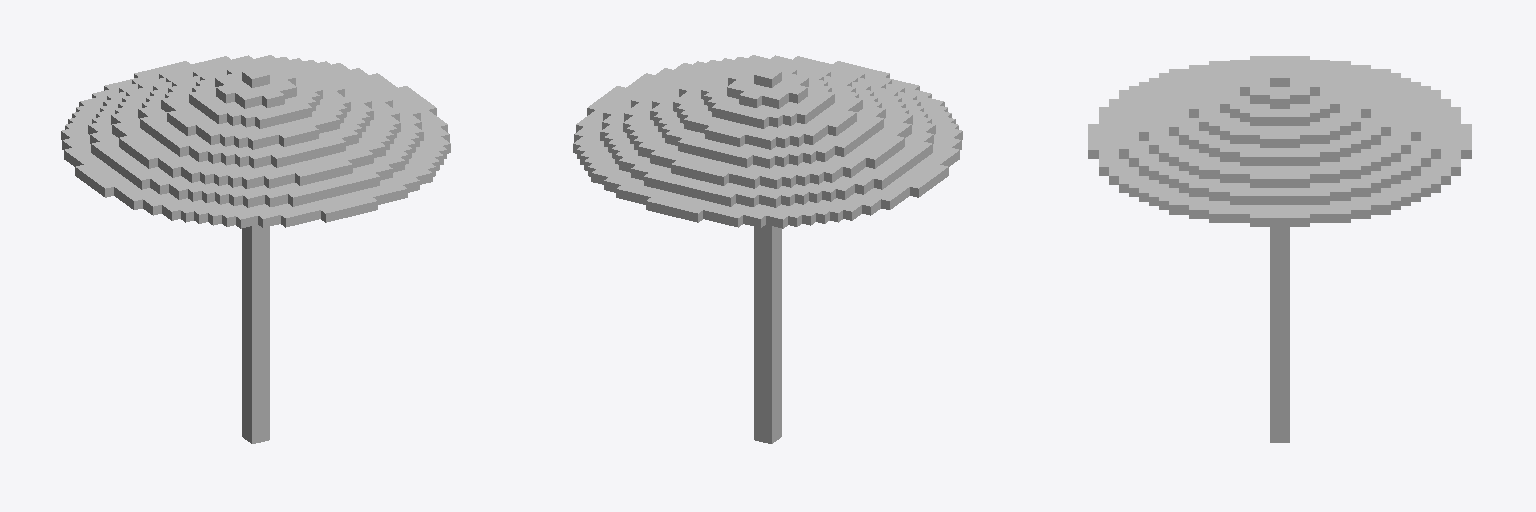
File: Umbrella.obj
The picture shows the model from 3 angles: view 1: azimuth 30°, elevation 25°; view 2: azimuth 150°, elevation 25°; view 3: azimuth 270°, elevation 25°; orthographic projection.
Parts seen in each view (by area): view 1: object 1; view 2: object 1; view 3: object 1.
Boxes of the visible parts, x1,y1,x2,y2 form: object 1: [61, 55, 450, 443]; object 1: [573, 55, 962, 443]; object 1: [1088, 56, 1471, 442].
Size of the model in its own units: 3.8 by 4 by 3.8.